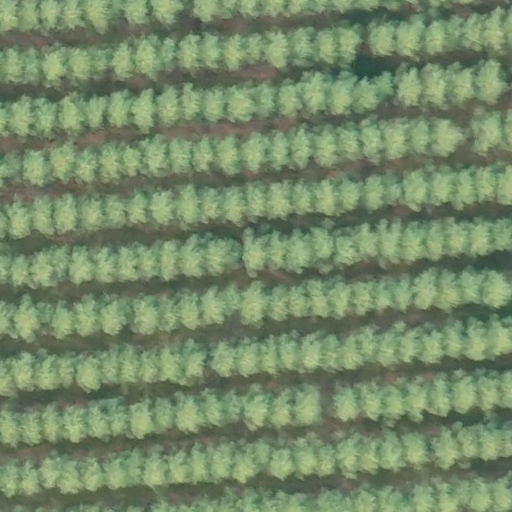eucalipto: (225, 79, 260, 126), (175, 389, 208, 435), (422, 372, 454, 419), (477, 61, 511, 105), (433, 115, 466, 159), (444, 63, 477, 107), (395, 13, 427, 58), (292, 383, 324, 428), (481, 264, 512, 310), (178, 229, 207, 278), (379, 381, 409, 427), (393, 65, 424, 109), (330, 380, 361, 424), (166, 131, 195, 178), (240, 229, 269, 276), (363, 18, 396, 59), (399, 170, 431, 212), (243, 383, 270, 432), (275, 76, 305, 120), (483, 315, 512, 359), (401, 430, 432, 471), (452, 164, 479, 211), (476, 368, 504, 413), (99, 294, 129, 335), (131, 294, 160, 336), (217, 133, 245, 176), (70, 294, 99, 335), (53, 193, 80, 237), (76, 352, 104, 393), (61, 404, 89, 445), (177, 183, 203, 227), (288, 229, 313, 274), (150, 394, 178, 434), (349, 278, 377, 318), (200, 288, 230, 325), (210, 339, 237, 380), (93, 244, 120, 284), (156, 84, 182, 125), (98, 143, 124, 184), (127, 401, 155, 439), (17, 407, 44, 446), (293, 436, 318, 478), (265, 283, 291, 322), (158, 240, 181, 284), (183, 341, 207, 383), (414, 270, 438, 312), (162, 452, 193, 484), (107, 90, 133, 128), (32, 194, 54, 238), (139, 342, 161, 386), (180, 80, 203, 122), (270, 390, 294, 430), (232, 447, 261, 480), (103, 190, 127, 229), (31, 251, 55, 290), (246, 181, 269, 221), (426, 217, 446, 263), (61, 456, 81, 494)
